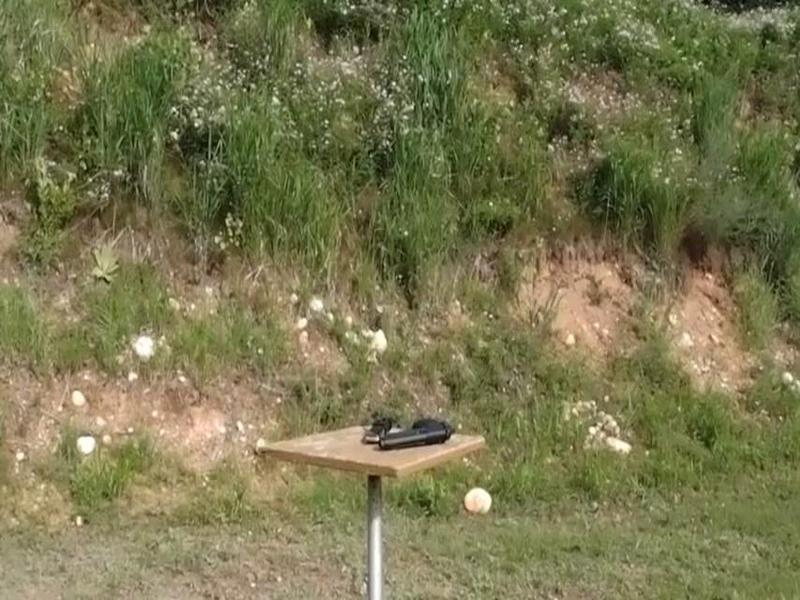Revolver: (370, 380, 470, 470)
